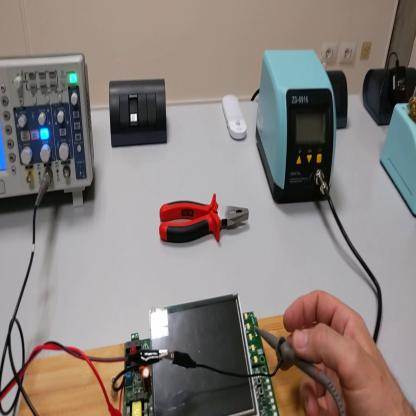hand: (285, 289, 405, 414)
low voltage board: (112, 290, 280, 415)
oscilloscope: (1, 47, 98, 209)
oscilloscope probe tip: (255, 328, 345, 415)
pliers: (158, 193, 251, 245)
socket: (361, 59, 416, 127), (329, 73, 351, 132)
welder base: (382, 91, 416, 216)
welder station: (255, 45, 337, 207)
working area: (21, 308, 312, 414)
